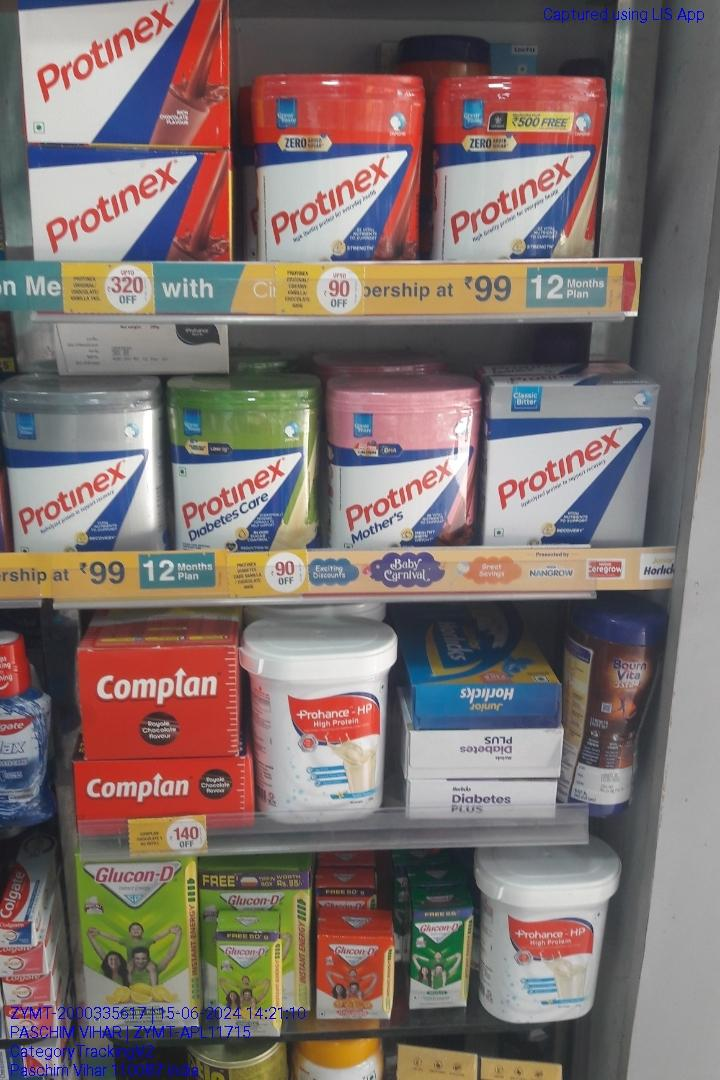PROTINEX_CHOCOLATE_400_G_JAR: (251, 67, 421, 262)
PROTINEX_ORIGINAL_400_G_JAR: (6, 392, 161, 559)
PROTINEX_VANILLA_400_G_JAR: (433, 71, 603, 262)
